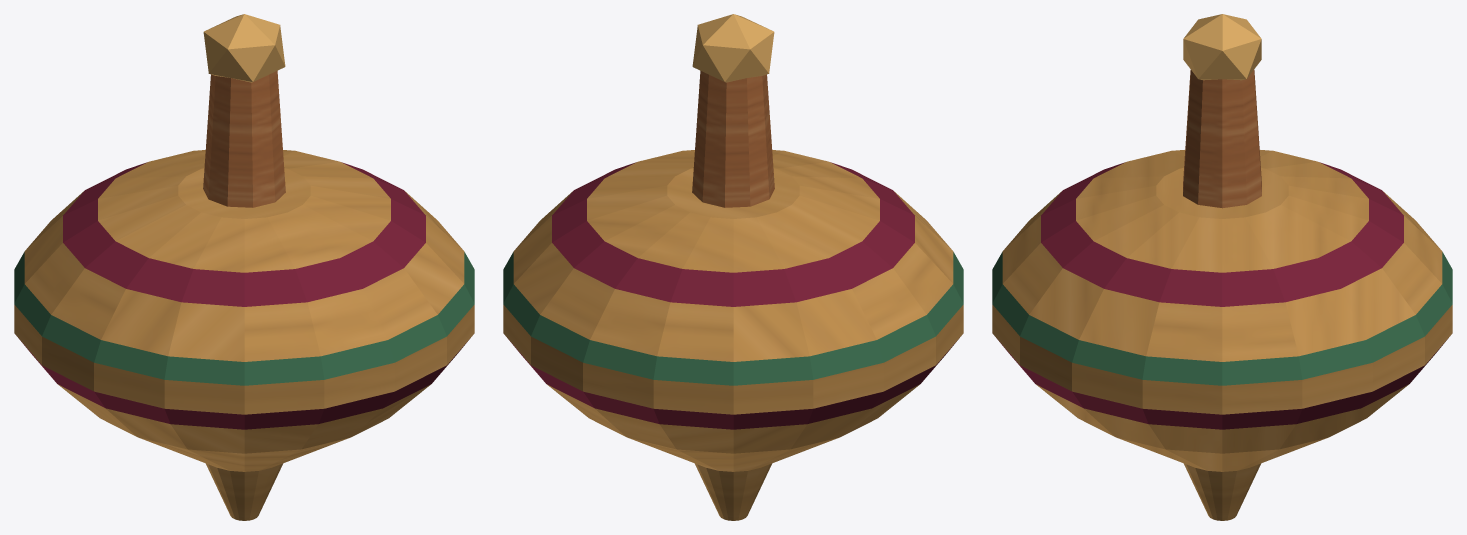
File: toy_spinning_top.glb
3 renders of one model, left to right at view 1: azimuth 30°, elevation 25°; view 2: azimuth 150°, elevation 25°; view 3: azimuth 270°, elevation 25°, orthographic.
Parts seen in each view (by area): view 1: toy_spinning_top; view 2: toy_spinning_top; view 3: toy_spinning_top.
Part boxes in pixels (x1,y1,x2,y2): toy_spinning_top: (14,14,474,520); toy_spinning_top: (503,14,963,520); toy_spinning_top: (992,14,1452,520).
Bounding box in the file's own units: 0.132 × 0.156 × 0.13.
Materials: 5 (2 with a texture image).
